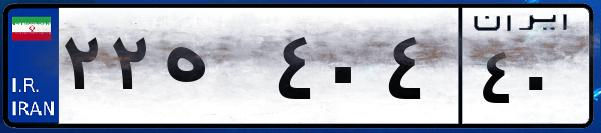0: (330, 28, 385, 110), (525, 38, 570, 115)
2: (57, 26, 110, 100), (110, 28, 158, 98)
4: (270, 28, 330, 110), (385, 28, 445, 110), (475, 38, 525, 113)
ه: (158, 20, 270, 120)
